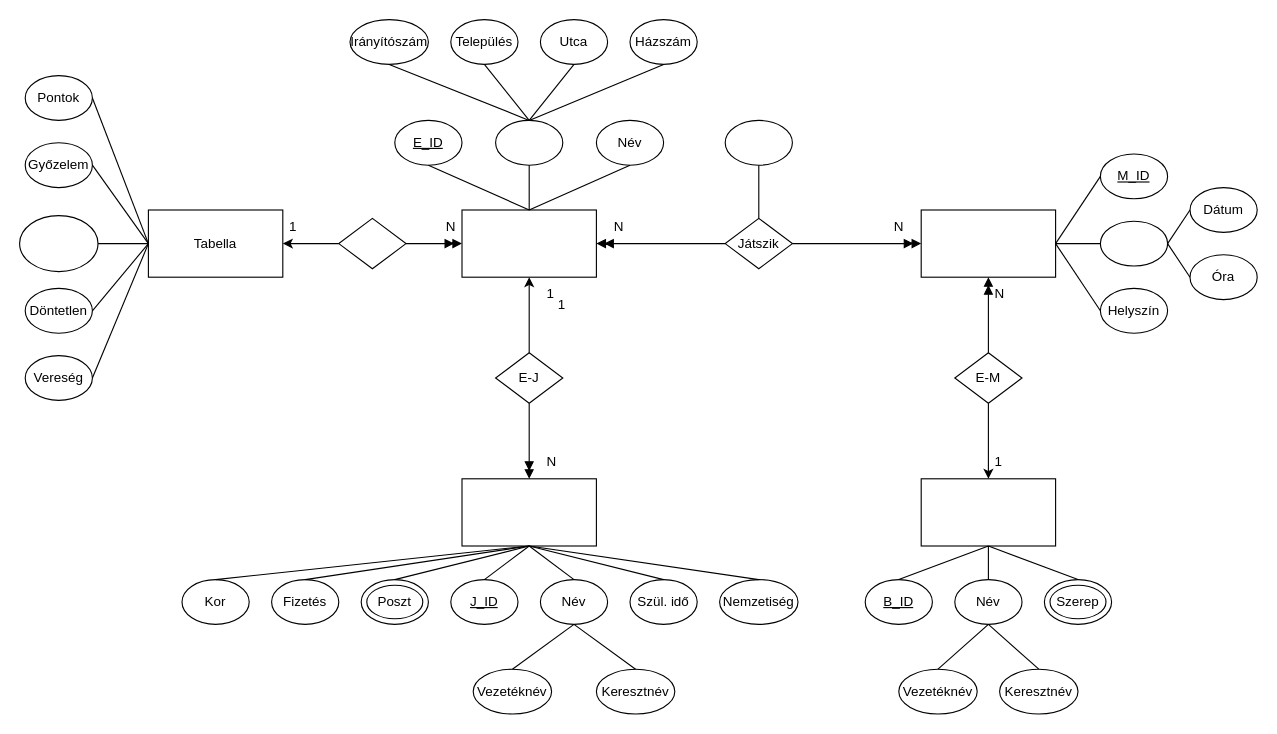
The diagram is 1277 pixels wide and 734 high, and some of its shapes have lost their labels. Here are the shapes that lost their labels. From the top down, the centre of each, then its label:
point 528,142: Cím
point 758,142: Eredmény
point 58,243: T_ID
point 372,243: T-E
point 528,243: Egyesület
point 988,243: Mérkőzés
point 1133,243: Időpont
point 528,512: Játékos
point 988,512: Bíró
